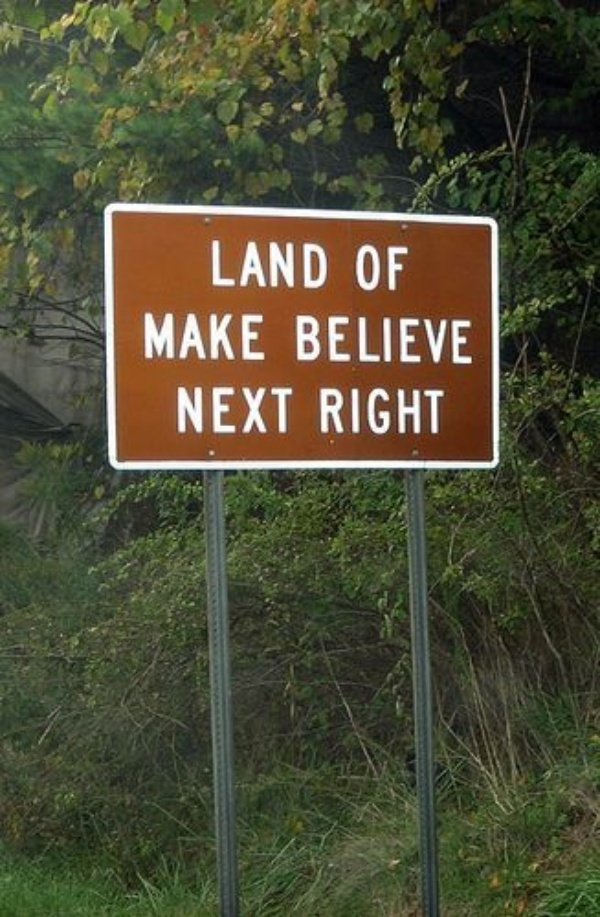text: (225, 237, 240, 290), (241, 237, 256, 290), (257, 237, 272, 290), (273, 237, 288, 290), (289, 237, 304, 290), (305, 237, 320, 290), (145, 310, 160, 362), (161, 310, 176, 362), (177, 310, 192, 362), (193, 310, 208, 362), (209, 310, 224, 362), (225, 310, 240, 362), (241, 310, 256, 362), (305, 314, 320, 365), (321, 314, 336, 365), (337, 314, 352, 365), (353, 314, 368, 365), (369, 314, 384, 365), (385, 314, 400, 365), (401, 314, 416, 365), (417, 314, 432, 365), (433, 314, 448, 365), (449, 314, 464, 365), (177, 384, 192, 435), (193, 384, 208, 435), (209, 384, 224, 435), (225, 384, 240, 435), (241, 384, 256, 435), (257, 384, 272, 435), (273, 384, 288, 435), (210, 237, 224, 290), (369, 243, 384, 292), (385, 243, 400, 292), (321, 386, 336, 435), (337, 386, 352, 435), (353, 386, 368, 435), (369, 386, 384, 435), (385, 386, 400, 435), (401, 386, 416, 435), (417, 386, 432, 435), (355, 243, 368, 292), (433, 386, 446, 435), (294, 314, 304, 365), (465, 314, 474, 365), (401, 243, 410, 292), (321, 237, 329, 290), (257, 310, 265, 362), (289, 384, 294, 435), (142, 310, 144, 362), (318, 386, 320, 435)
